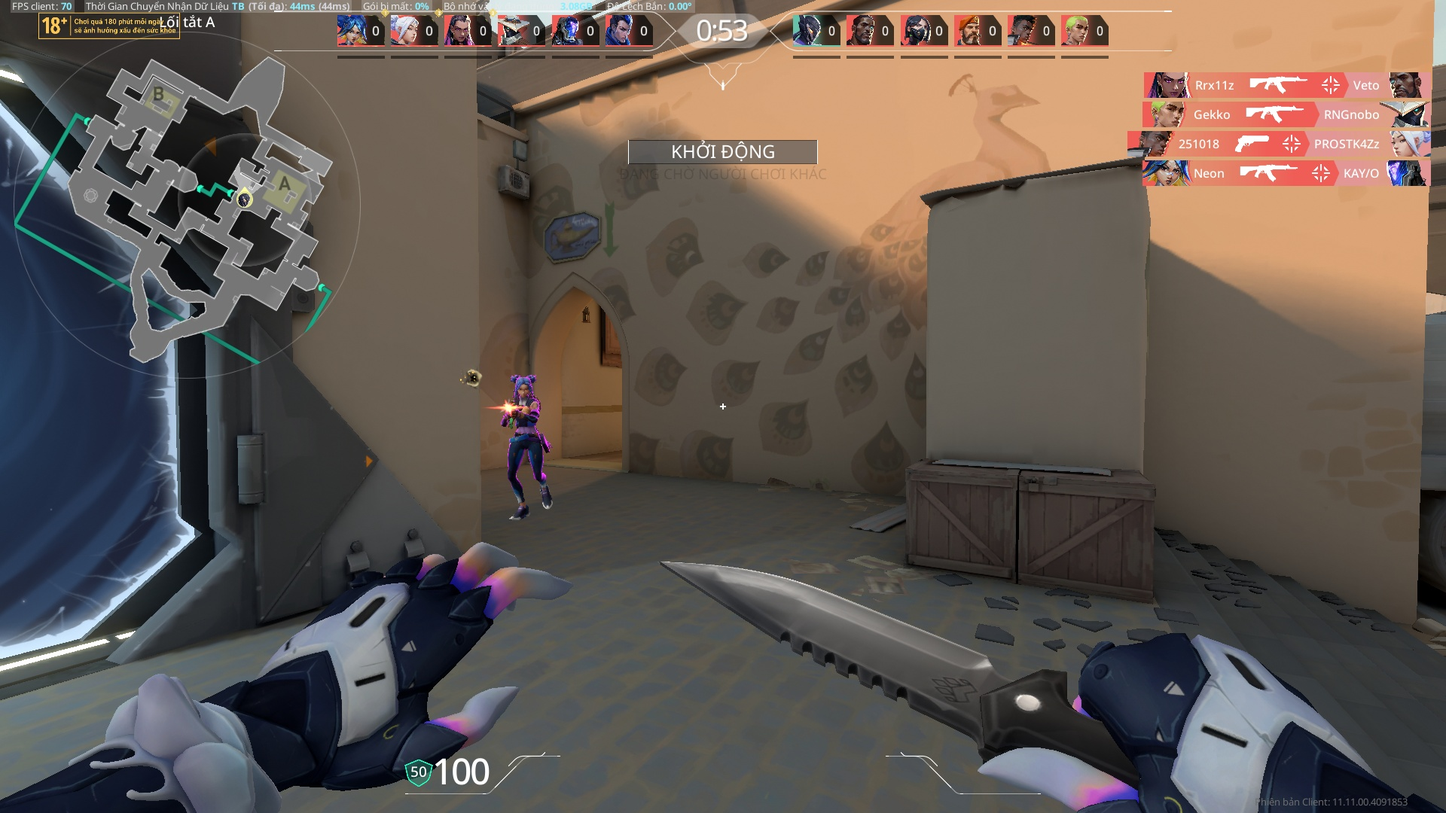body: (501, 397, 549, 442)
head: (512, 376, 535, 398)
